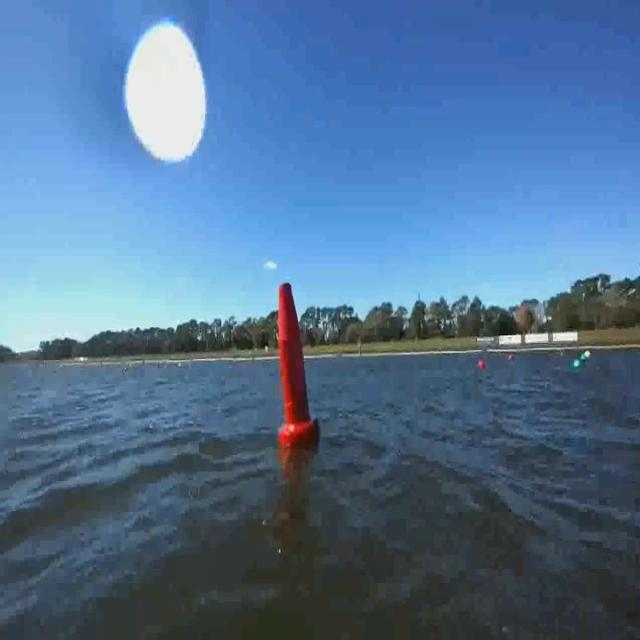red-buoy: (477, 353, 488, 376)
red-column-buoy: (275, 276, 316, 448)
